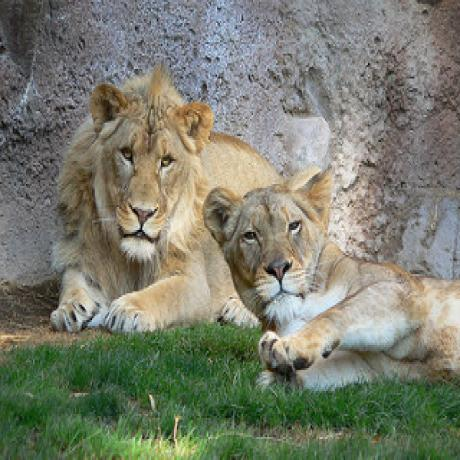Lion: (203, 172, 460, 389), (53, 64, 229, 335)
